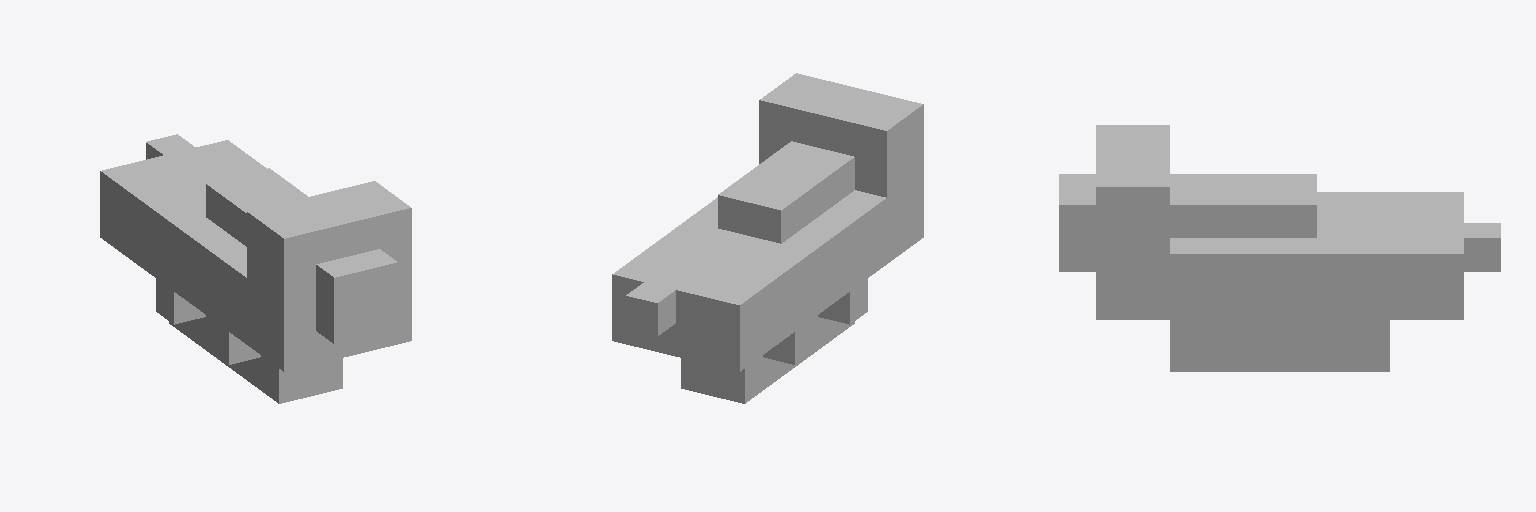
The model's file is redHot.obj.
The picture shows the model from 3 angles: view 1: azimuth 30°, elevation 25°; view 2: azimuth 150°, elevation 25°; view 3: azimuth 270°, elevation 25°; orthographic projection.
Visible parts, largest first — view 1: AssaultRiffle_A; view 2: AssaultRiffle_A; view 3: AssaultRiffle_A.
Part boxes in pixels (left/top/right/bottom): AssaultRiffle_A: left=100, top=134, right=411, bottom=403; AssaultRiffle_A: left=612, top=73, right=923, bottom=403; AssaultRiffle_A: left=1059, top=125, right=1500, bottom=371.
Bounding box in the file's own units: 0.05 × 0.075 × 0.15.